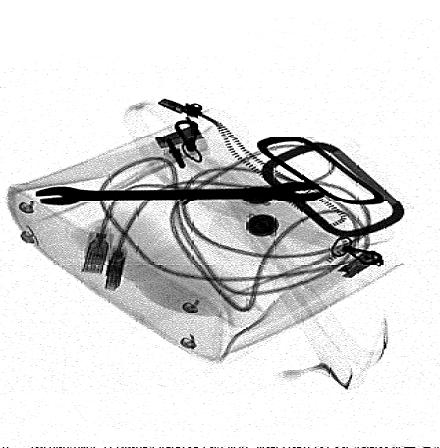Wrench: (35, 181, 325, 205)
